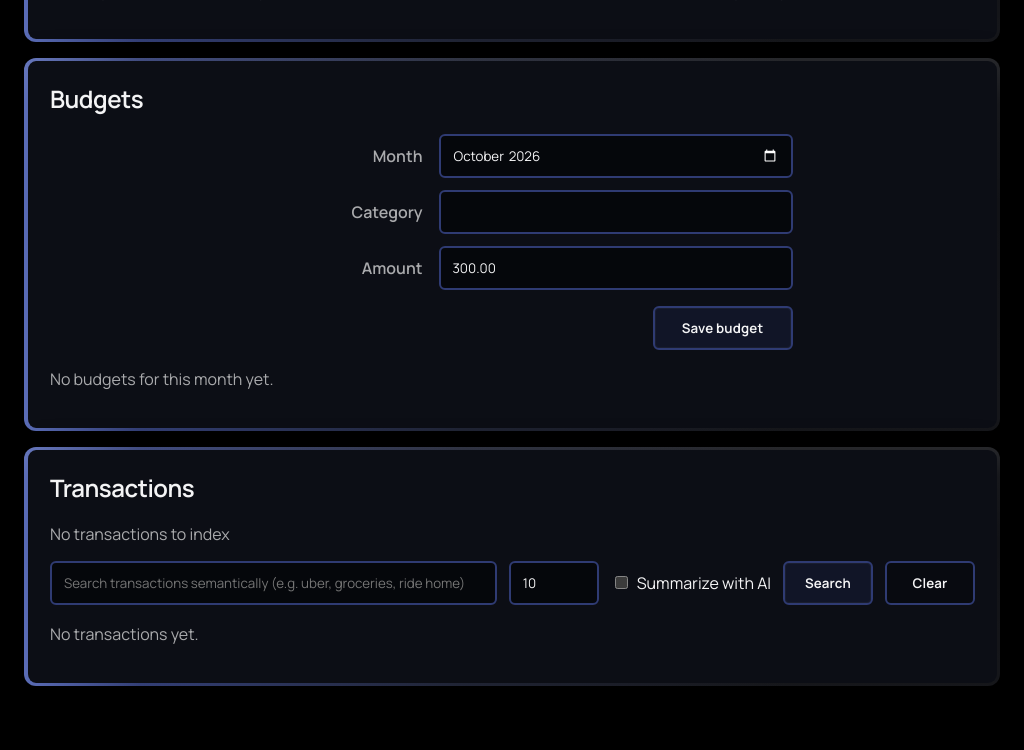
Test: dashboard request lifecycle › ignores a search failure after Clear
(page scrolled)
Type "coffee" into the field named "Semantic search query" at (273, 583), box [50, 561, 497, 605]
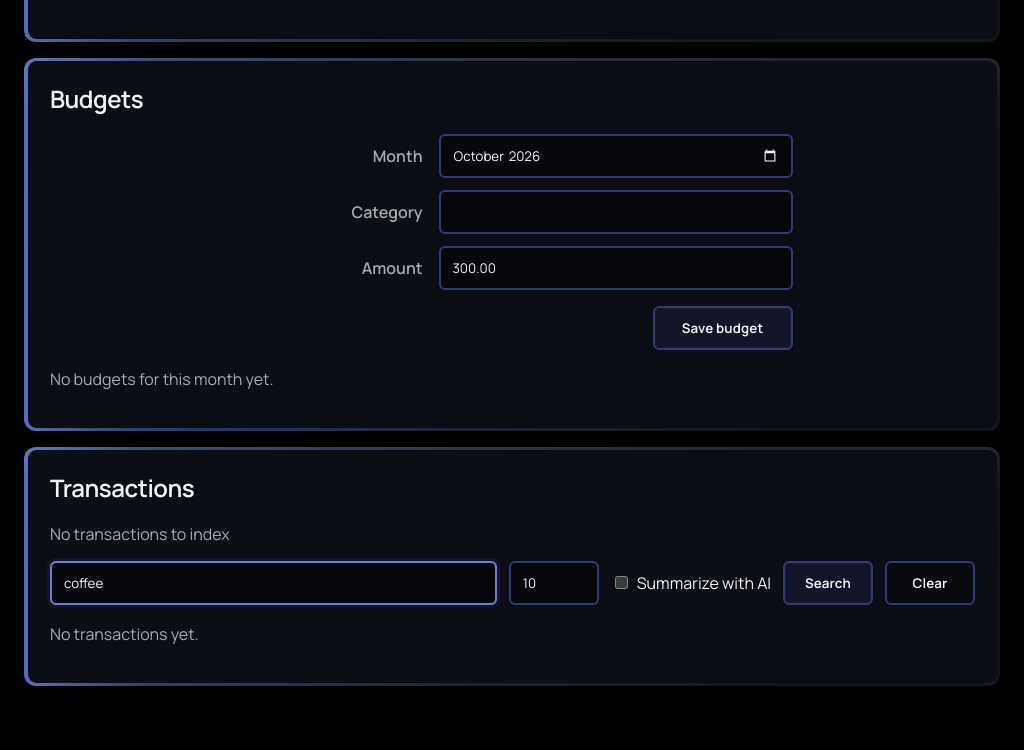
Click the button "Search" at (828, 583), box [783, 561, 873, 605]
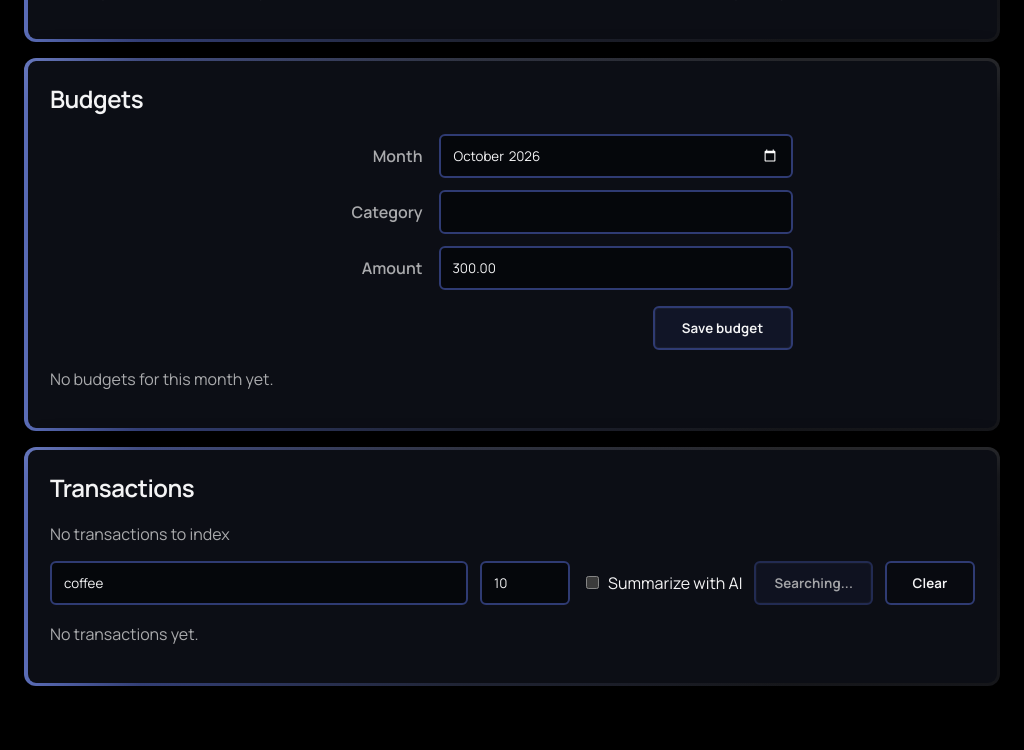
Click the button "Clear" at (930, 583), box [885, 561, 975, 605]
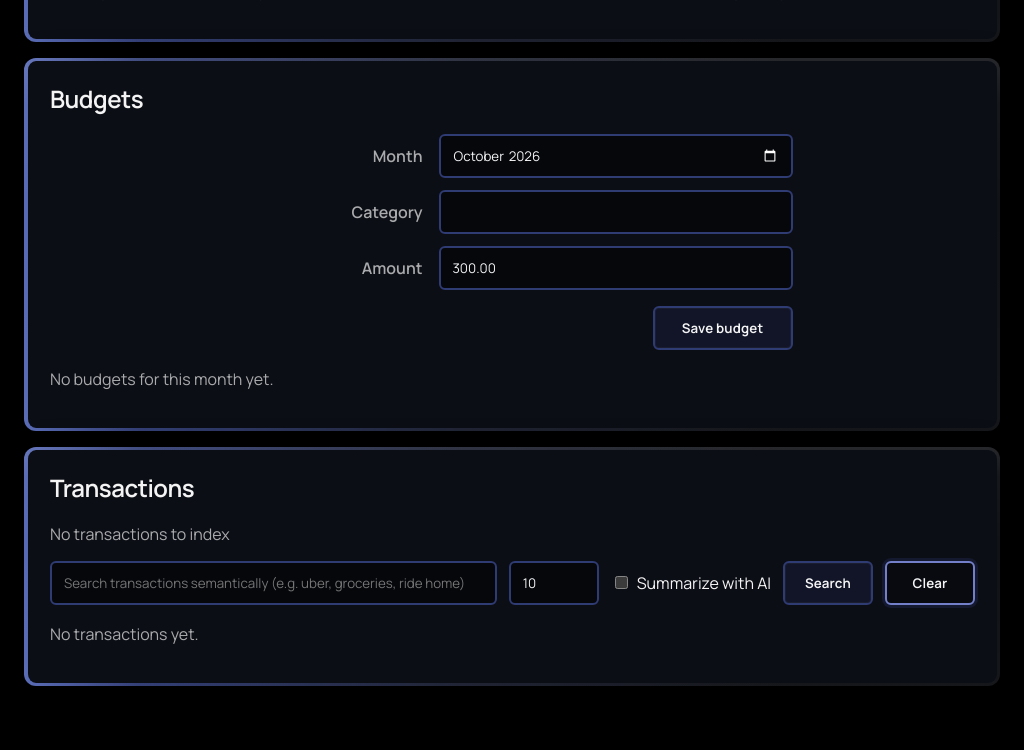
Now the button "Search" is enabled, box [783, 561, 873, 605]
